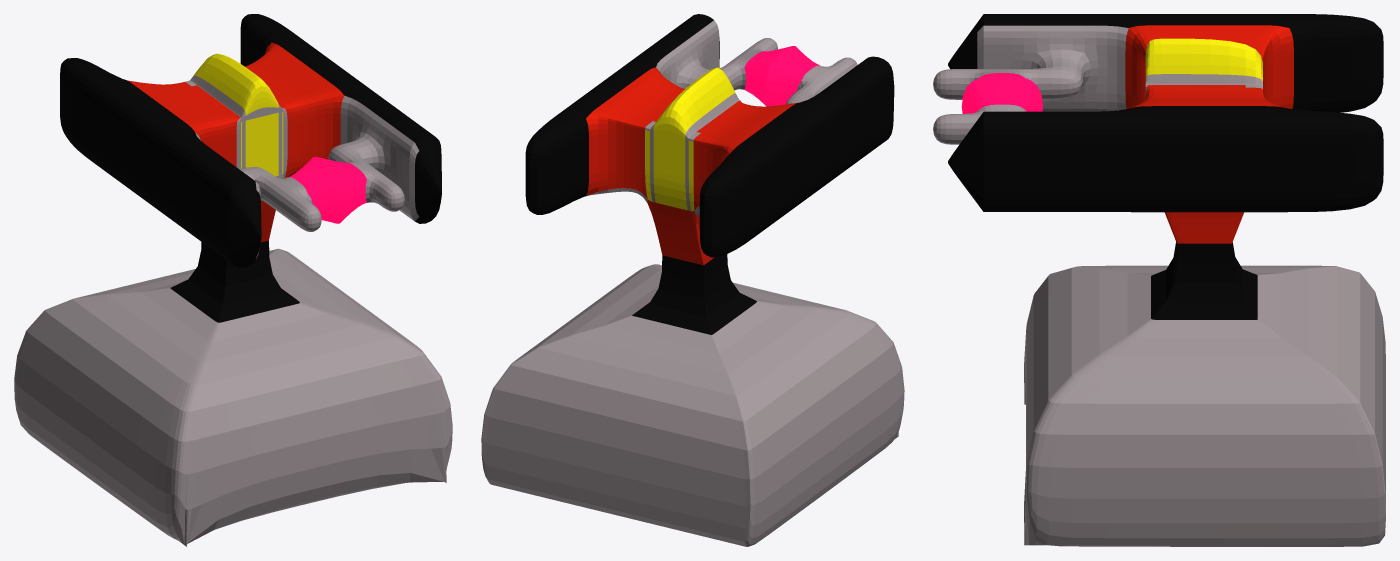
Rendered from Enemy_Turret_Smooth.fbx.
The picture shows the model from 3 angles, left to right: view 1: azimuth 30°, elevation 25°; view 2: azimuth 150°, elevation 25°; view 3: azimuth 270°, elevation 25°; orthographic projection. The views are drawn at different scales.
Visible parts, largest first — view 1: Cube.001, Cube; view 2: Cube.001, Cube; view 3: Cube.001, Cube.
Part boxes in pixels (x1,y1,x2,y2): Cube.001: (14,240,452,546); Cube: (60,14,441,267); Cube.001: (481,254,904,546); Cube: (525,14,894,265); Cube.001: (1024,242,1385,546); Cube: (933,14,1383,243).
Bounding box in the file's own units: 198 × 265 × 249.
